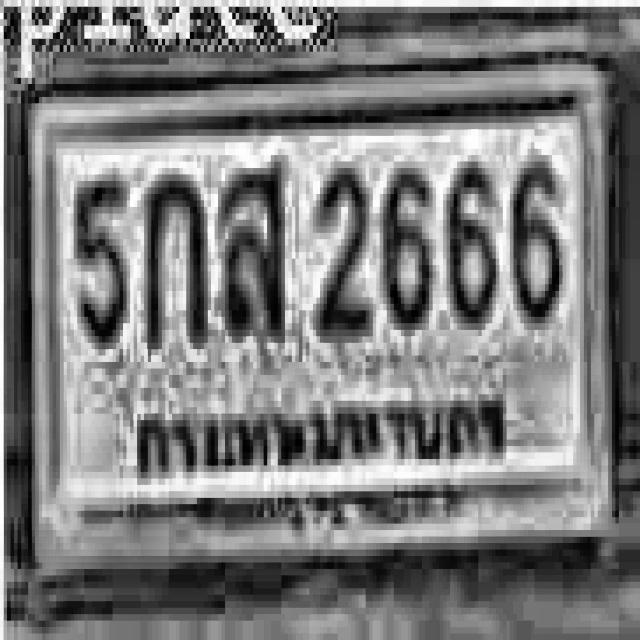license-plate: (15, 63, 623, 589)
